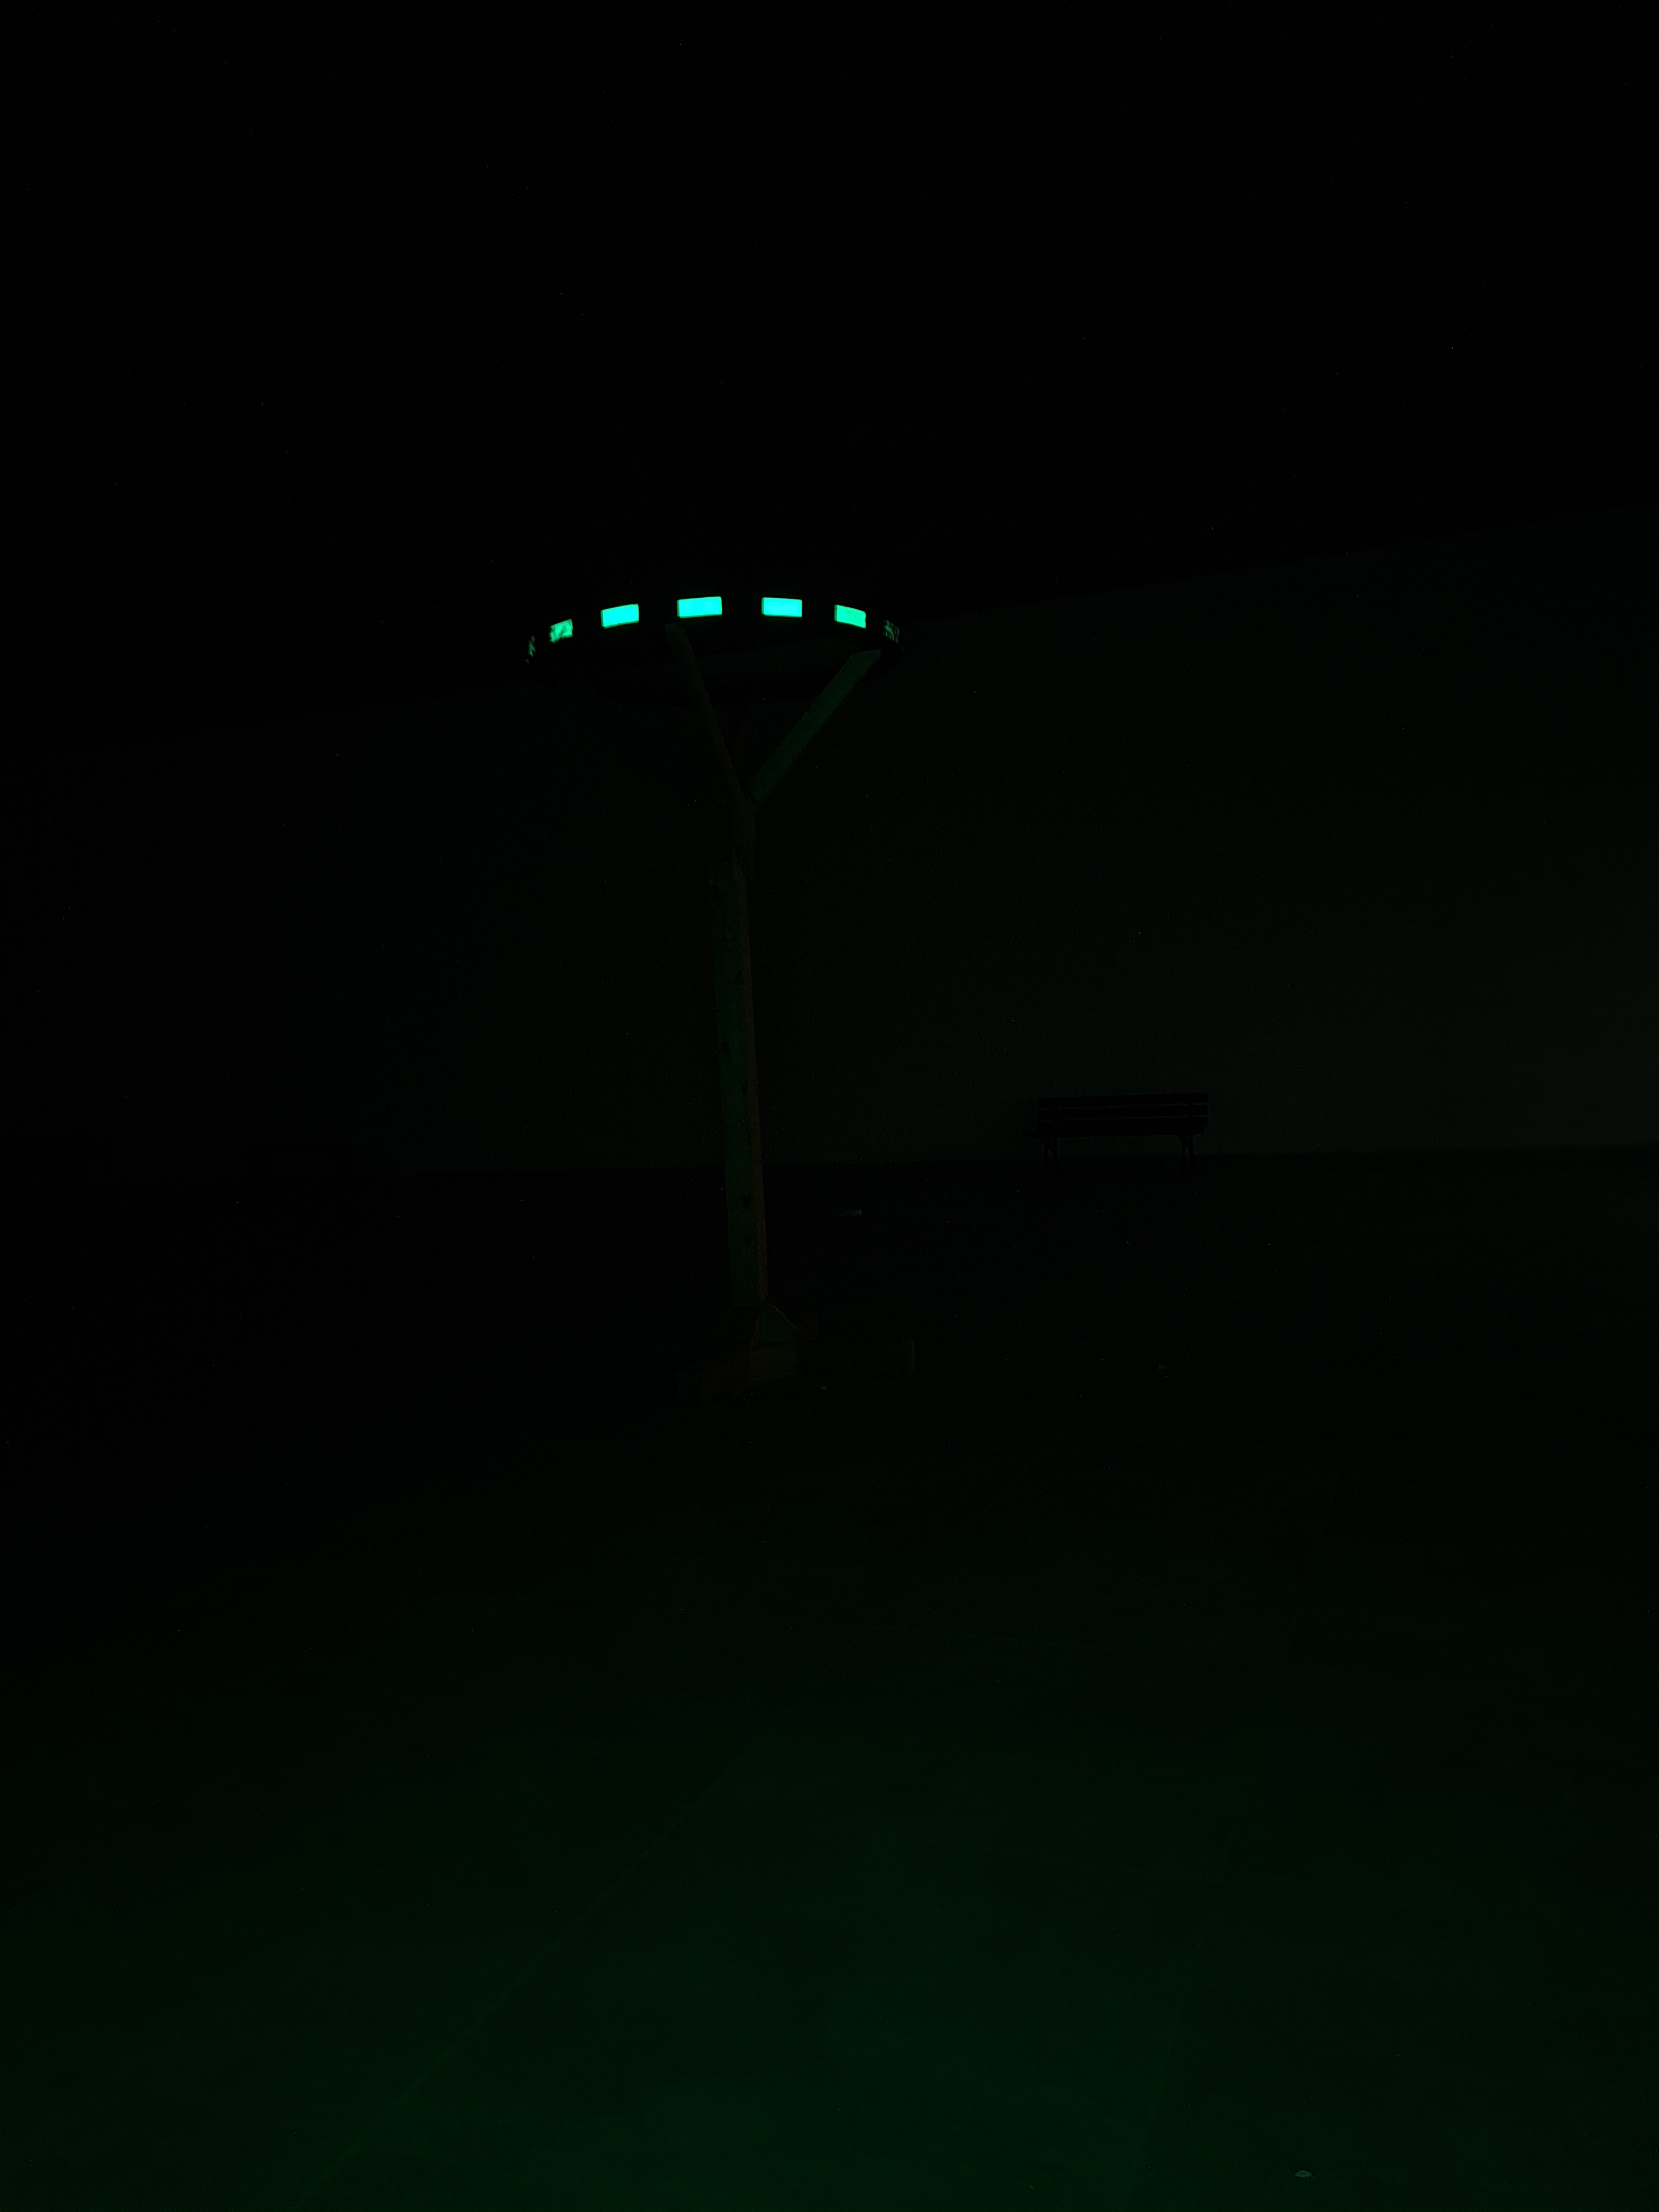hoop: (523, 592, 901, 655)
